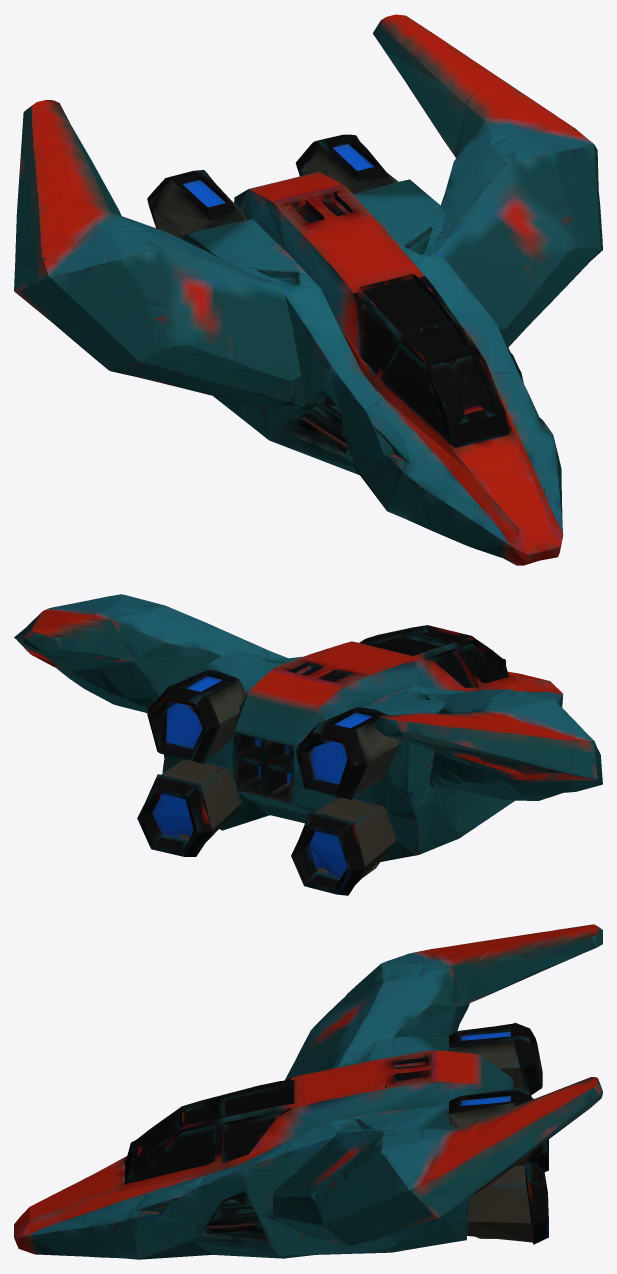
3 renders of one model, top to bottom at view 1: azimuth 30°, elevation 25°; view 2: azimuth 150°, elevation 25°; view 3: azimuth 270°, elevation 25°, orthographic. The views are drawn at different scales.
Parts seen in each view (by area): view 1: world; view 2: world; view 3: world.
Part boxes in pixels (x1=…): world: x1=14, y1=14, x2=602, y2=565; world: x1=14, y1=594, x2=602, y2=895; world: x1=14, y1=924, x2=602, y2=1259.
Bounding box in the file's own units: 1 × 0.4479 × 0.9848.
Materials: 1 (1 with a texture image).
